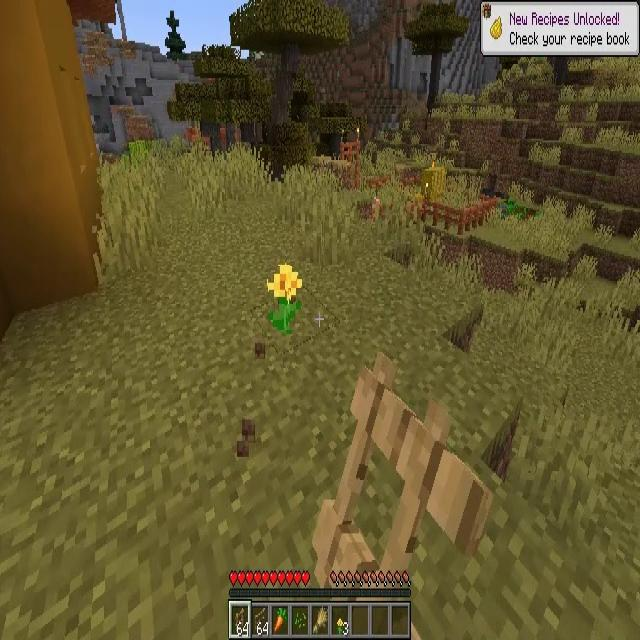flower: (268, 266, 302, 331)
